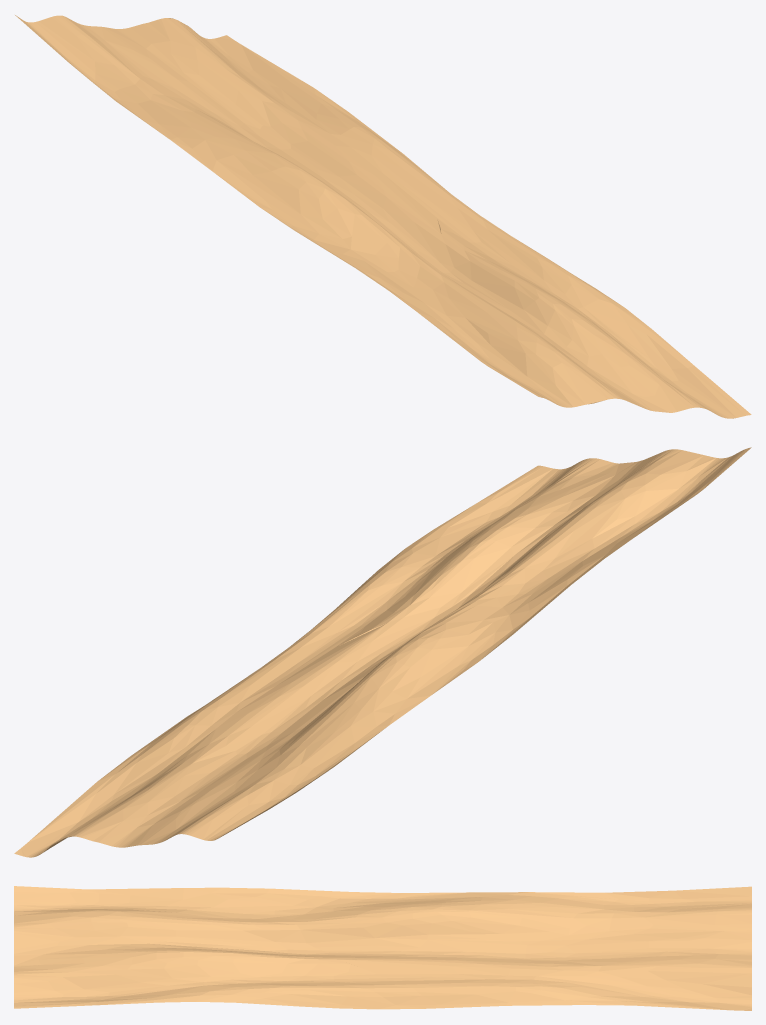
File: Desert_2.fbx
The picture shows the model from 3 angles, top to bottom: view 1: azimuth 30°, elevation 25°; view 2: azimuth 150°, elevation 25°; view 3: azimuth 270°, elevation 25°; orthographic projection. The views are drawn at different scales.
Visible parts, largest first — view 1: Desert.001; view 2: Desert.001; view 3: Desert.001.
Part boxes in pixels (left/top/right/bottom): Desert.001: left=15, top=15, right=751, bottom=418; Desert.001: left=14, top=447, right=751, bottom=857; Desert.001: left=14, top=886, right=751, bottom=1010.
Bounding box in the file's own units: 68.55 × 22.15 × 283.
